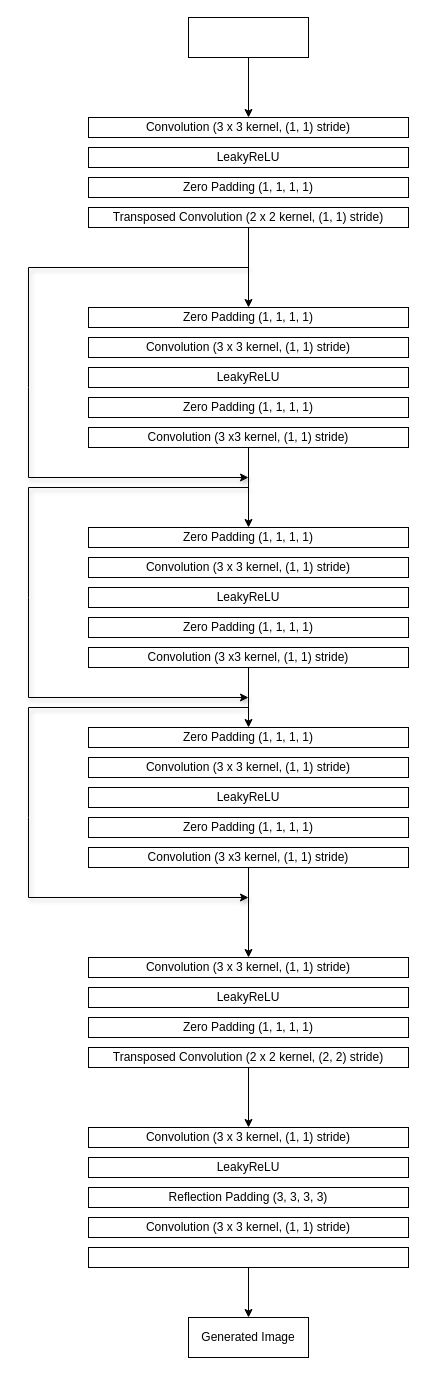
Some shapes in this 426 by 1375 pixel diagram are drawn without their labels. The shapes that lost their labels are listed below. From the top down, each one's centre as x and y in pixels, then its label:
point (248, 37): Encoded Image
point (248, 1257): Tanh
